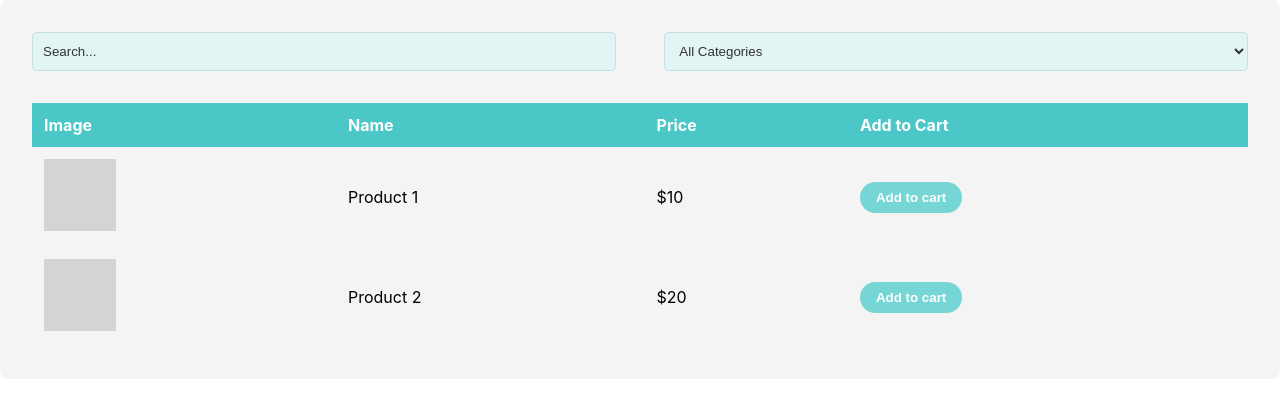
Test: filters products based on search text
Type "Product 1" into the field with placeholder "Search..." at x=324, y=52, box [32,32,616,71]
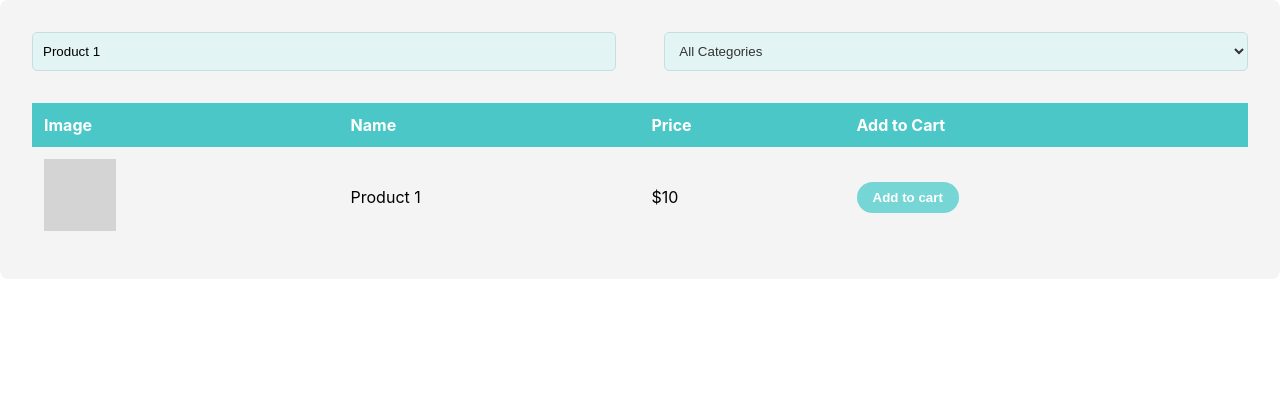
Expected: the text "Product 1" is shown, [338,147,639,247]
Now the text "Product 2" is gone
